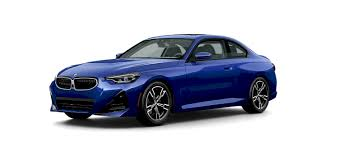car: (48, 30, 279, 125)
